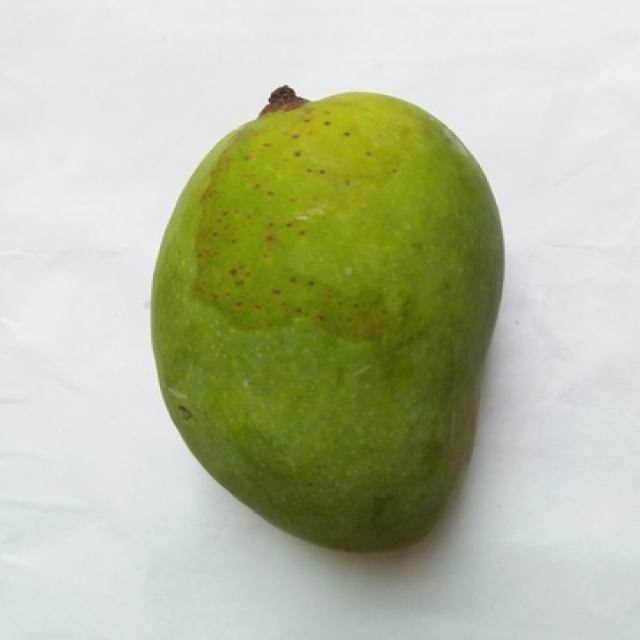Mango: (151, 94, 501, 551)
